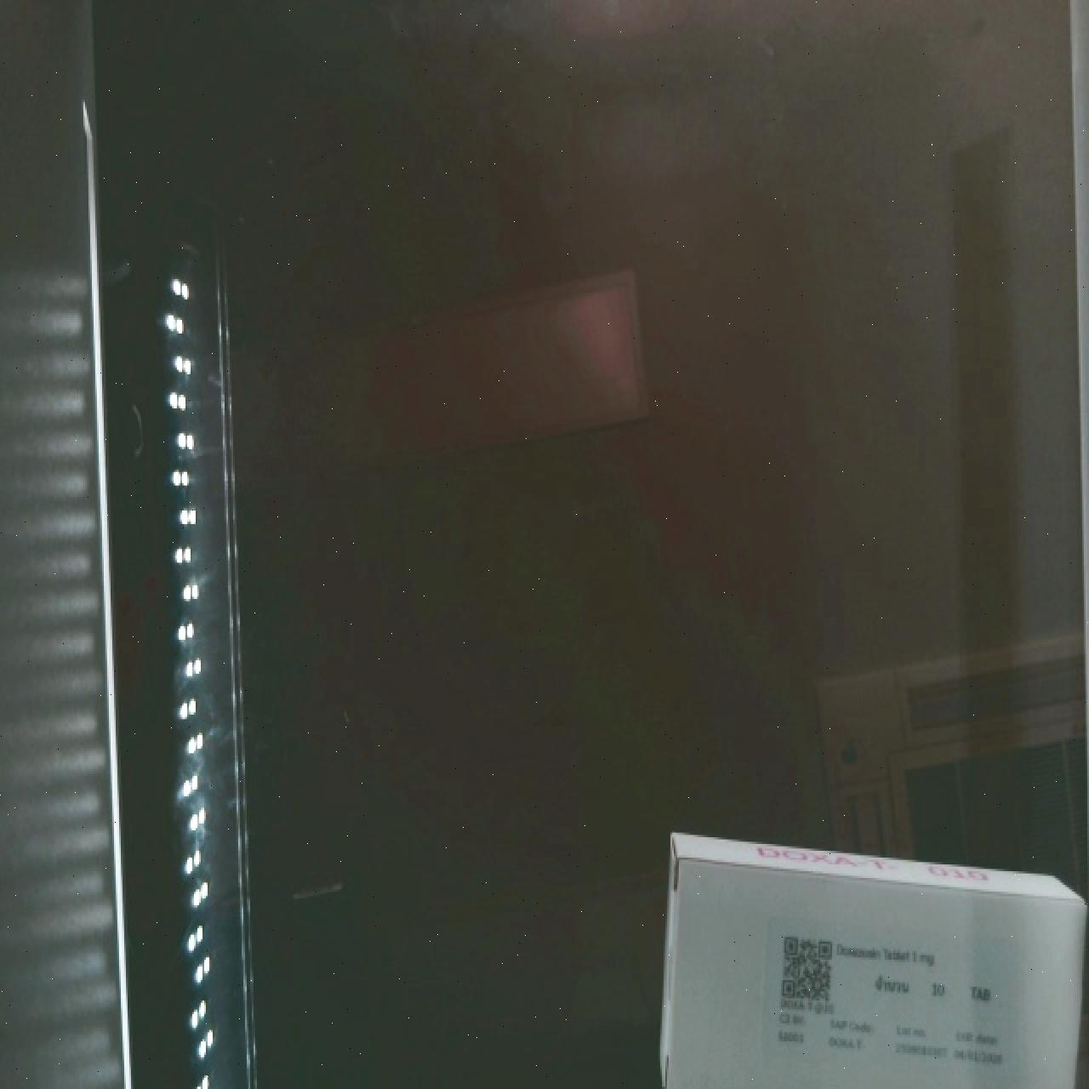qr_code: (765, 916, 850, 1026)
